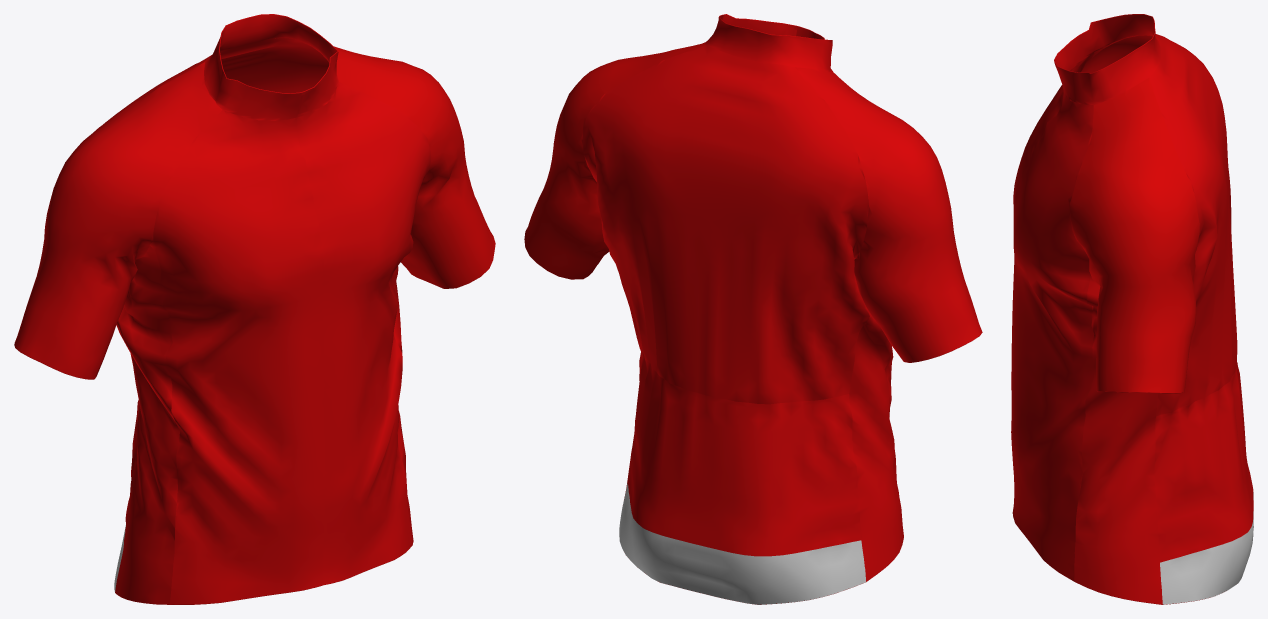
Rendered from redshirt.dae.
3 views of the same model, side by side, from view 1: azimuth 30°, elevation 25°; view 2: azimuth 150°, elevation 25°; view 3: azimuth 270°, elevation 25° (orthographic). The views are drawn at different scales.
Parts seen in each view (by area): view 1: Collar4_3, Collar3_4, Collar8_2, Collar10_6, Collar9_1, Collar5_11, Collar12_9, Collar12_20, Collar11_7; view 2: Collar5_0, Collar7_5, Collar8_2, Collar6_8, Collar9_1, Collar10_6, Collar12_9, Collar12_20; view 3: Collar3_4, Collar9_1, Collar11_7, Collar5_0, Collar7_5, Collar6_8, Collar12_9, Collar12_20, Collar4_3, Collar8_13.
Part boxes in pixels (box(x1,y1,x2,y2)): Collar4_3: box(150, 110, 324, 604); Collar3_4: box(296, 82, 430, 584); Collar8_2: box(14, 62, 222, 379); Collar10_6: box(115, 245, 179, 604); Collar9_1: box(334, 46, 495, 288); Collar5_11: box(220, 37, 329, 93); Collar12_9: box(204, 37, 338, 120); Collar12_20: box(220, 14, 337, 62); Collar11_7: box(393, 266, 413, 544); Collar5_0: box(581, 45, 869, 404); Collar7_5: box(627, 351, 861, 556); Collar8_2: box(795, 67, 982, 362); Collar6_8: box(619, 483, 865, 604); Collar9_1: box(524, 42, 705, 279); Collar10_6: box(849, 309, 903, 581); Collar12_9: box(705, 17, 832, 72); Collar12_20: box(720, 14, 823, 39); Collar3_4: box(1011, 88, 1094, 581); Collar9_1: box(1070, 78, 1199, 392); Collar11_7: box(1074, 274, 1162, 604); Collar5_0: box(1149, 35, 1237, 416); Collar7_5: box(1154, 362, 1253, 562); Collar6_8: box(1160, 492, 1253, 604); Collar12_9: box(1054, 33, 1161, 104); Collar12_20: box(1055, 14, 1154, 71); Collar4_3: box(1011, 85, 1063, 509); Collar8_13: box(1080, 35, 1152, 73).
Bounding box in the file's own units: 63.01 × 29.53 × 71.44.
